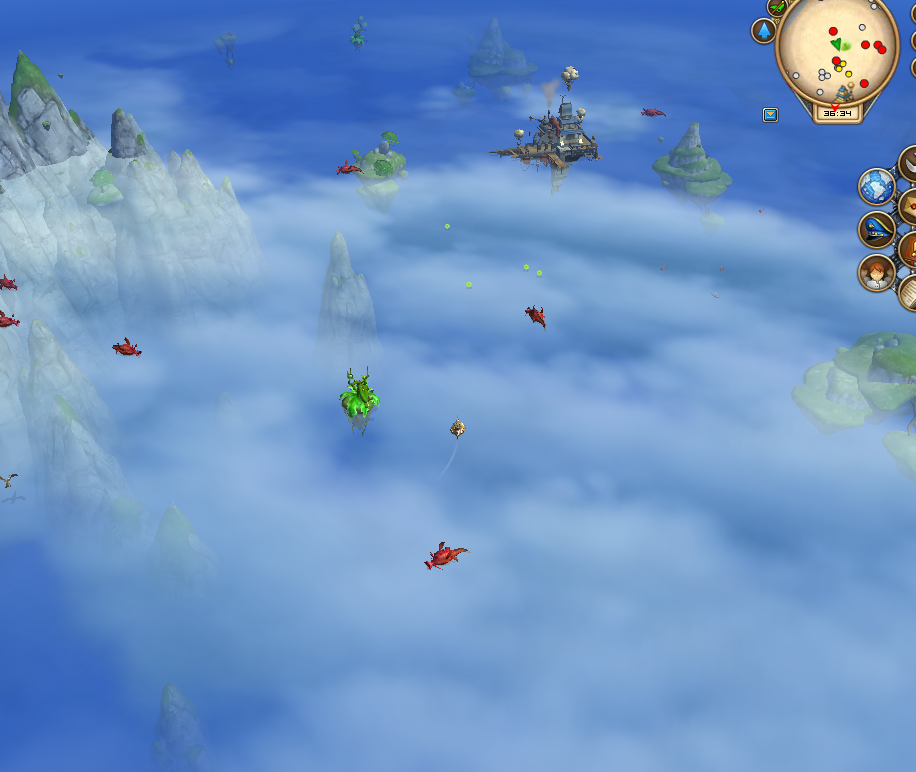dandelion-empty: (335, 364, 382, 434)
dandelion-full: (348, 13, 370, 52)
fluff: (441, 220, 454, 233), (521, 261, 532, 274), (534, 267, 545, 279), (463, 280, 474, 290)
